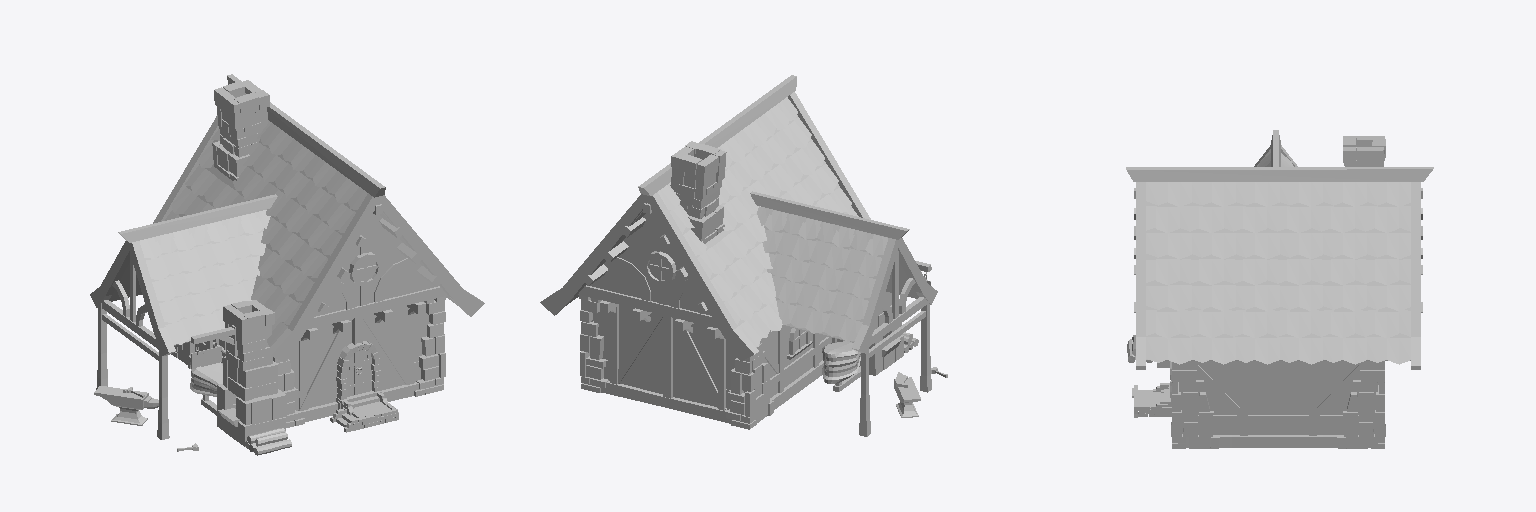
File: Blacksmith.obj
3 renders of one model, left to right at view 1: azimuth 30°, elevation 25°; view 2: azimuth 150°, elevation 25°; view 3: azimuth 270°, elevation 25°, orthographic.
Visible parts, largest first — view 1: Blacksmith_Cube.000; view 2: Blacksmith_Cube.000; view 3: Blacksmith_Cube.000.
Boxes of the visible parts, x1,y1,x2,y2 form: Blacksmith_Cube.000: [90, 74, 484, 455]; Blacksmith_Cube.000: [540, 75, 947, 436]; Blacksmith_Cube.000: [1126, 130, 1433, 448].
Bounding box in the file's own units: 3.89 × 3 × 3.28.